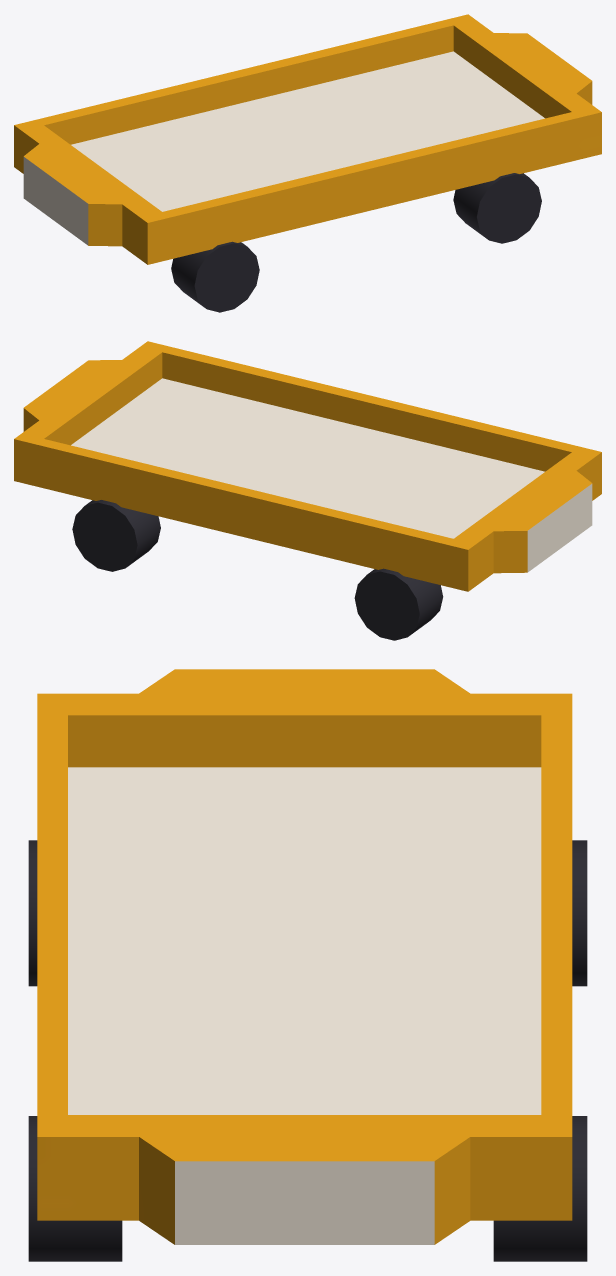
File: Cart.fbx
The picture shows the model from 3 angles, top to bottom: view 1: azimuth 30°, elevation 25°; view 2: azimuth 150°, elevation 25°; view 3: azimuth 270°, elevation 25°; orthographic projection. The views are drawn at different scales.
Visible parts, largest first — view 1: Cart; view 2: Cart; view 3: Cart.
Boxes of the visible parts, x1,y1,x2,y2 form: Cart: [14, 14, 601, 312]; Cart: [14, 341, 601, 640]; Cart: [28, 669, 587, 1261].
Size of the model in its own units: 61.23 by 12.21 by 29.38.
